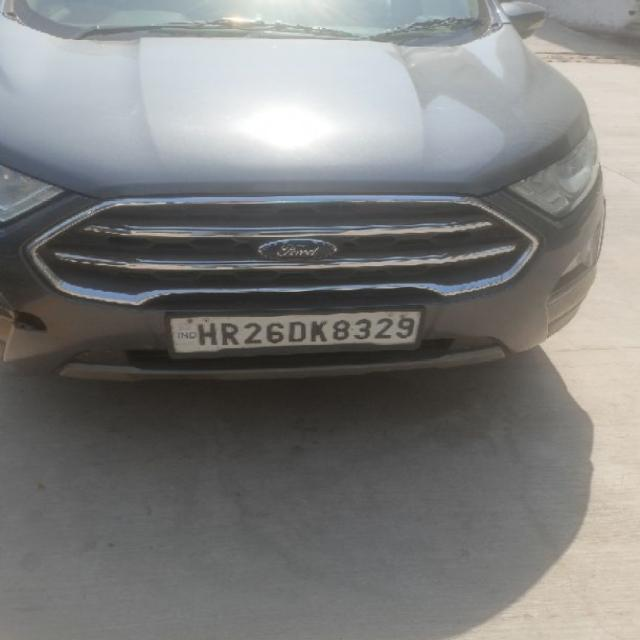license_plate: (163, 307, 425, 359)
